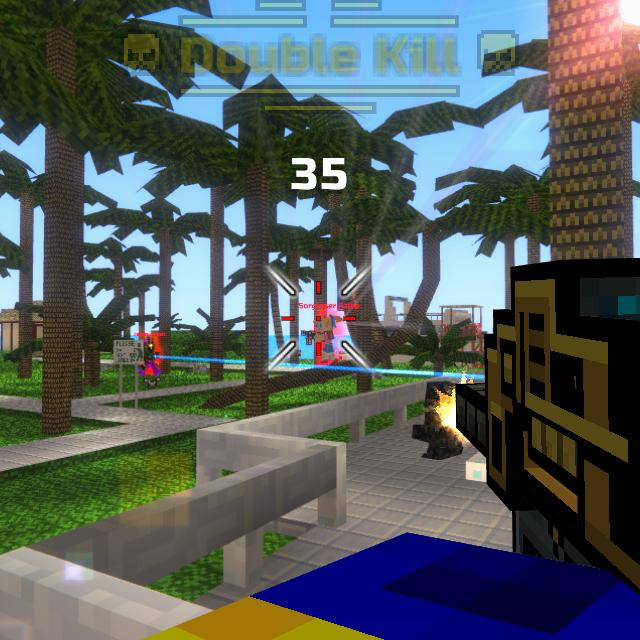Enemy: (310, 314, 337, 363), (141, 338, 160, 375)
